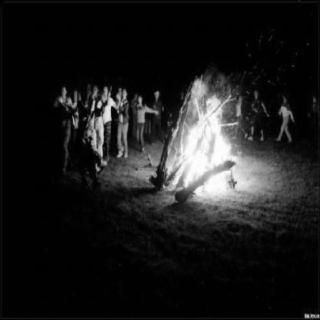Fire: (178, 90, 234, 192)
